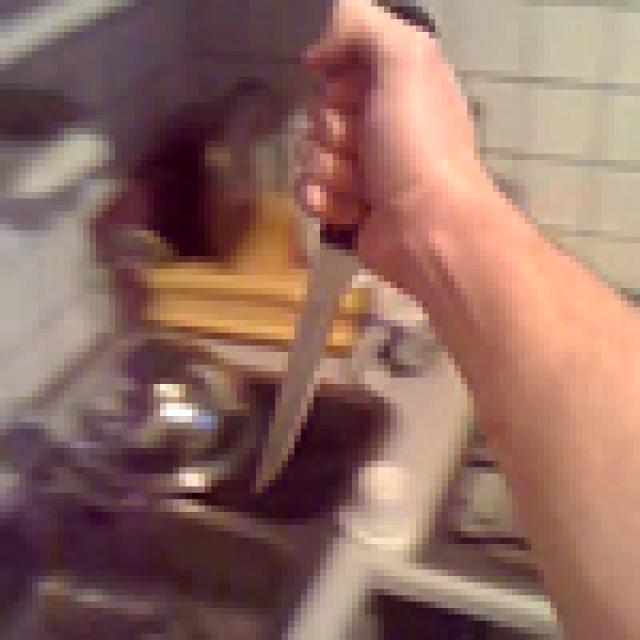Weapons: (244, 225, 374, 502)
